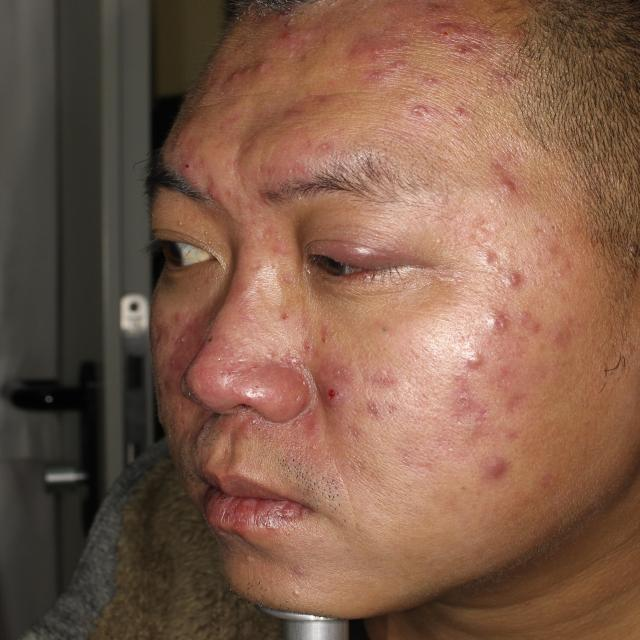Acne: (452, 344, 525, 476), (418, 4, 493, 88), (475, 245, 530, 333), (155, 304, 202, 380), (277, 102, 337, 154), (160, 400, 202, 456), (413, 100, 473, 136), (320, 360, 355, 418), (356, 38, 396, 84), (374, 368, 411, 416), (280, 14, 322, 51), (262, 298, 302, 336), (281, 545, 309, 589), (497, 164, 524, 204), (197, 85, 226, 121), (243, 52, 270, 88), (346, 240, 382, 264), (270, 234, 298, 264), (240, 548, 256, 572), (183, 156, 199, 177)
